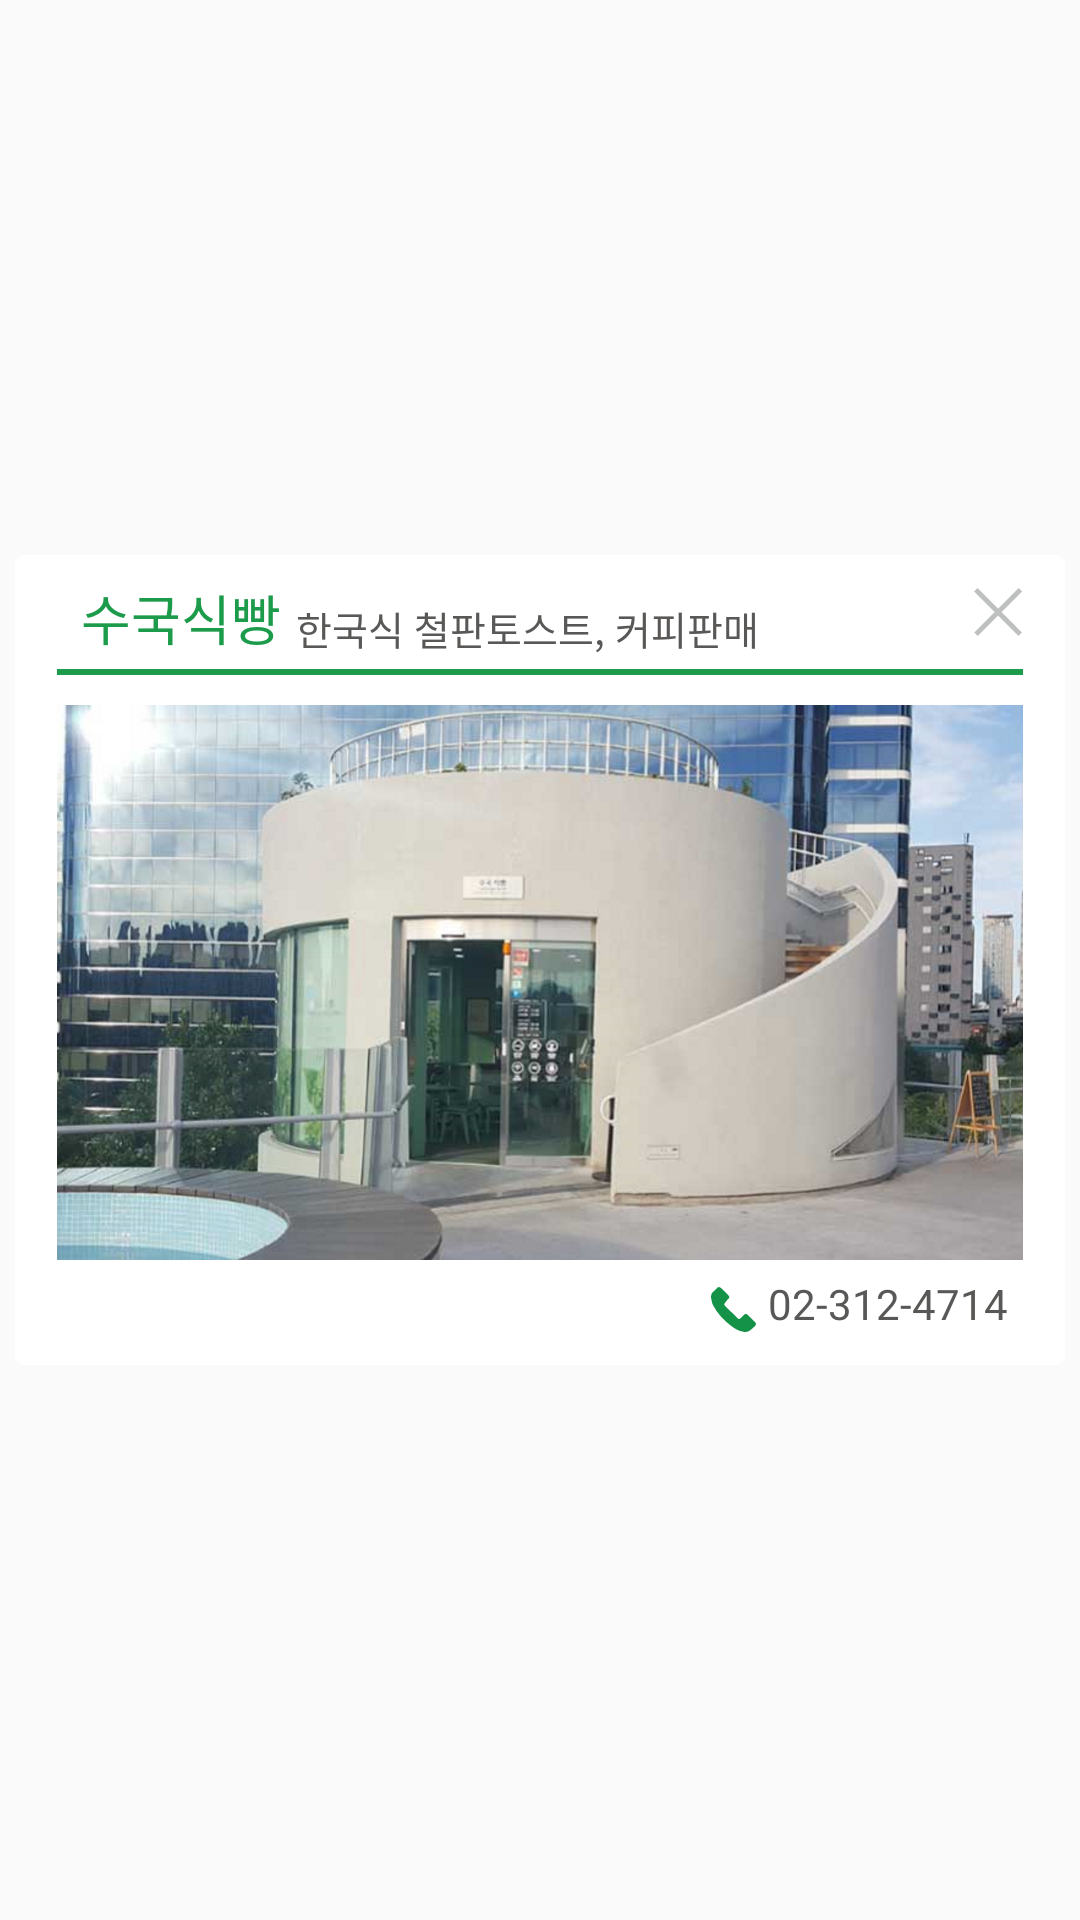

Locate icon controls on the screen. Image size 1080*1920, boxes as (x1,y1,x2,y2).
call: (711,1287,756,1332)
